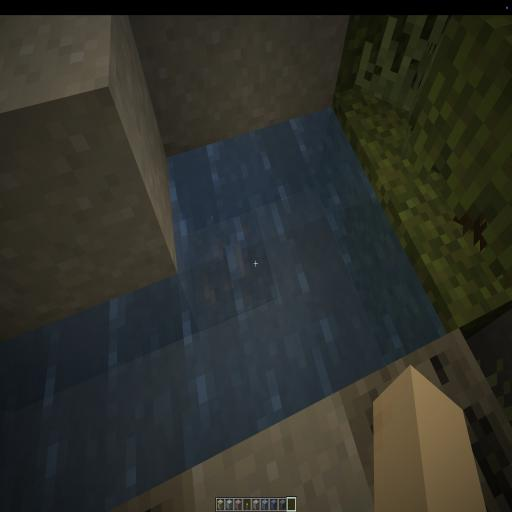coal ore: (361, 327, 512, 512)
iron ore: (178, 224, 276, 318)
